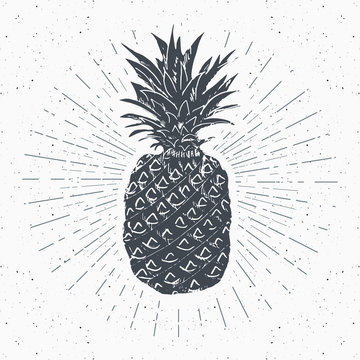Pineapple: (119, 27, 242, 293)
